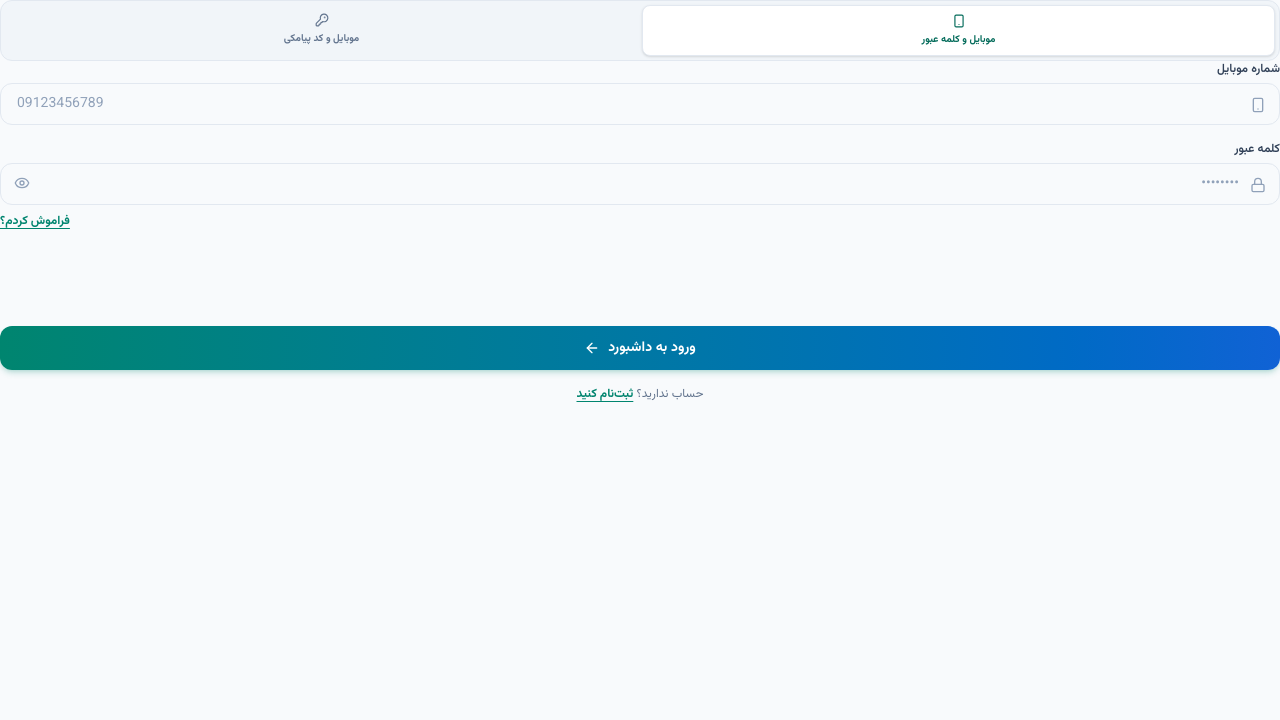
Test: [component] LoginForm › opens the forgot-password modal when the link is clicked
Click the button with test id "forgot-password-btn" at (35, 221), box [0,213,70,229]
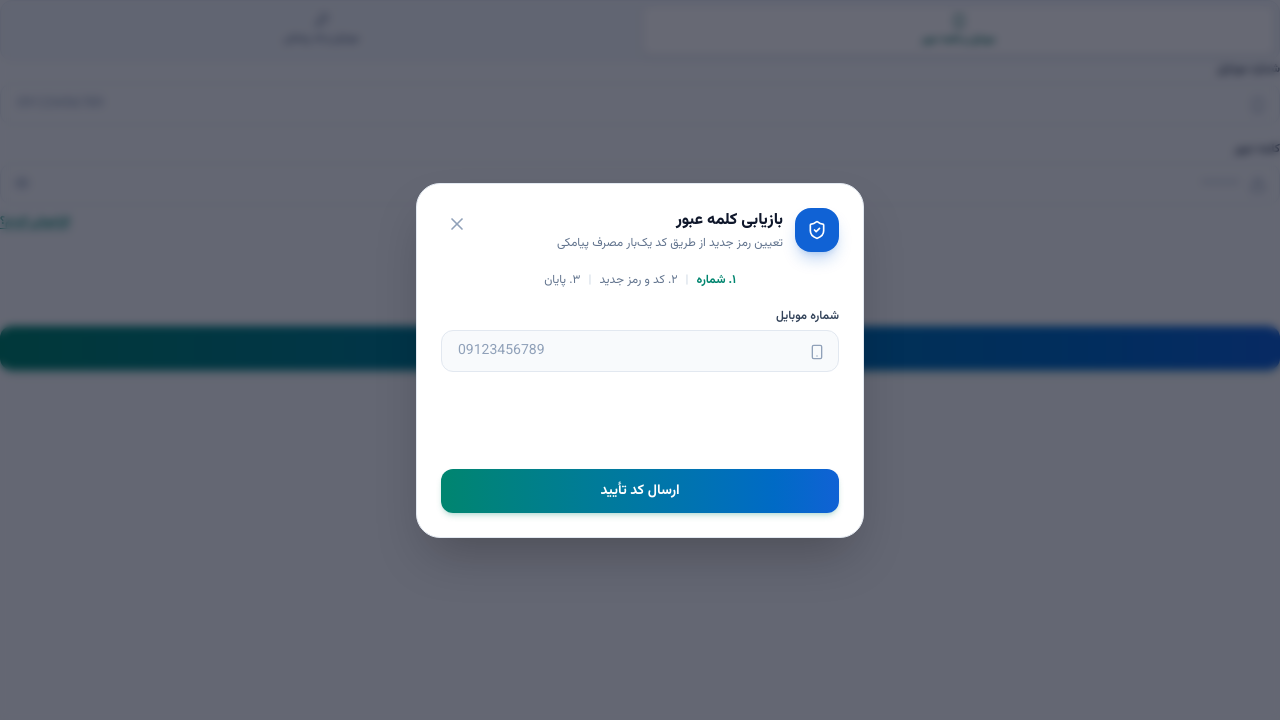
Check: the dialog is shown
Check: the heading "بازیابی کلمه عبور" is shown, box [676,208,783,232]
Check: the button with test id "forgot-send-btn" is shown, box [441,468,839,512]
